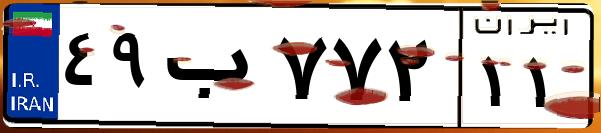1: (475, 38, 525, 113), (525, 38, 570, 115)
2: (385, 28, 445, 110)
4: (57, 26, 110, 100)
7: (270, 28, 330, 110), (330, 28, 385, 110)
9: (110, 28, 158, 98)
ب: (158, 20, 270, 120)
